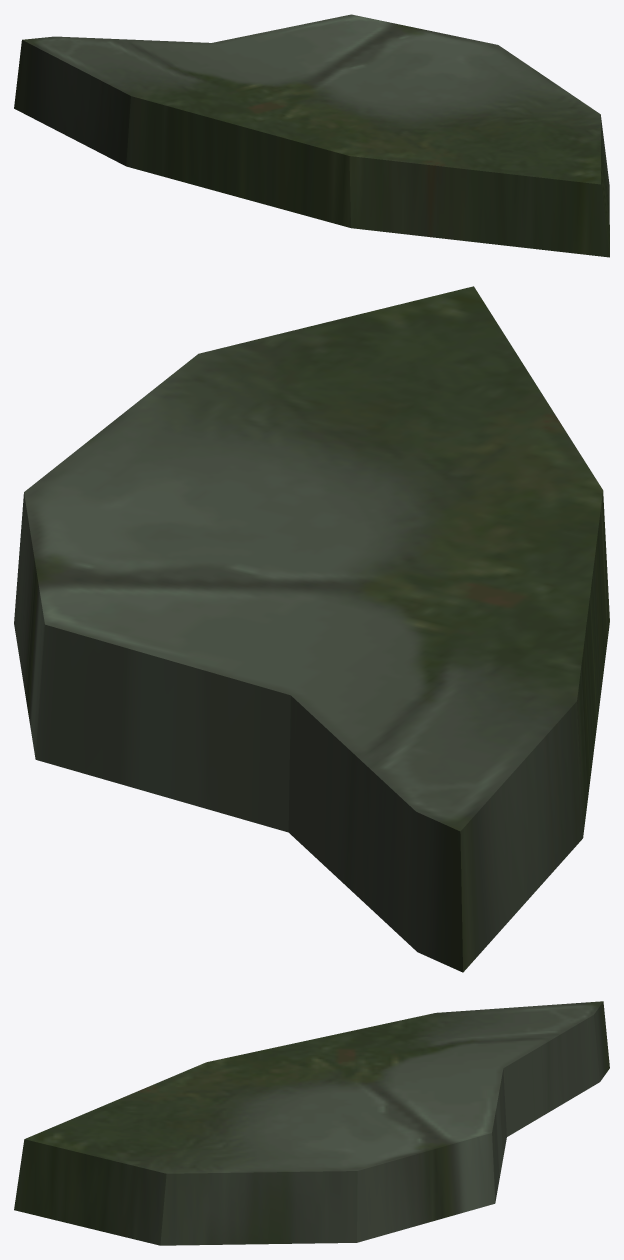
File: yw_newshanlin_manholesuipian_002.FBX
3 renders of one model, top to bottom at view 1: azimuth 30°, elevation 25°; view 2: azimuth 150°, elevation 25°; view 3: azimuth 270°, elevation 25°, orthographic. The views are drawn at different scales.
Parts seen in each view (by area): view 1: yw_newshanlin_manholesuipian_002; view 2: yw_newshanlin_manholesuipian_002; view 3: yw_newshanlin_manholesuipian_002.
Boxes of the visible parts, <box> form: yw_newshanlin_manholesuipian_002: <box>14,14,609,257</box>; yw_newshanlin_manholesuipian_002: <box>14,286,609,972</box>; yw_newshanlin_manholesuipian_002: <box>14,1001,609,1245</box>.
Size of the model in its own units: 199 by 283 by 36.2.
